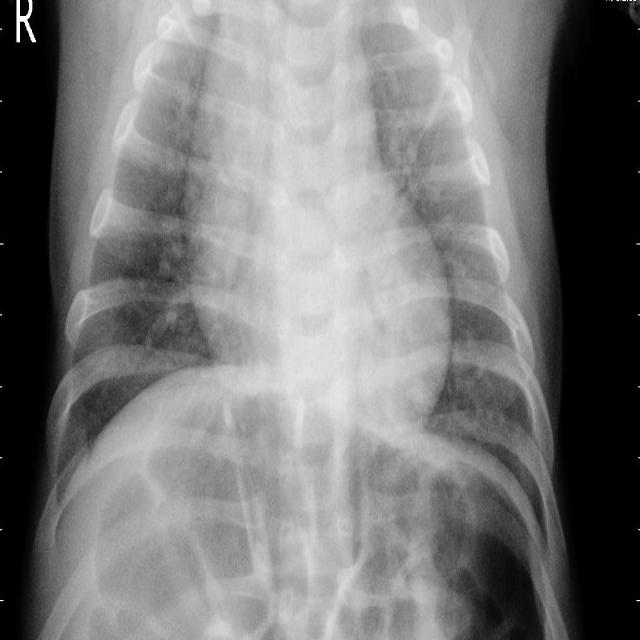high-pneumonia: (357, 20, 491, 301), (117, 1, 213, 215)
